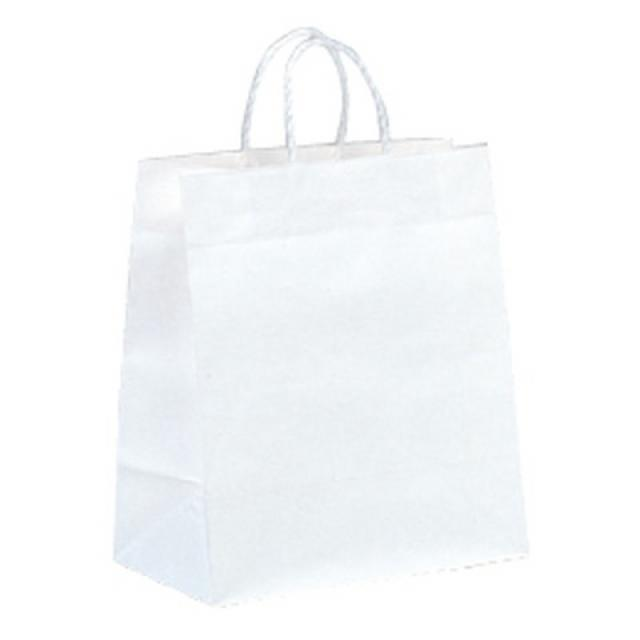paper bag: (111, 20, 536, 616)
